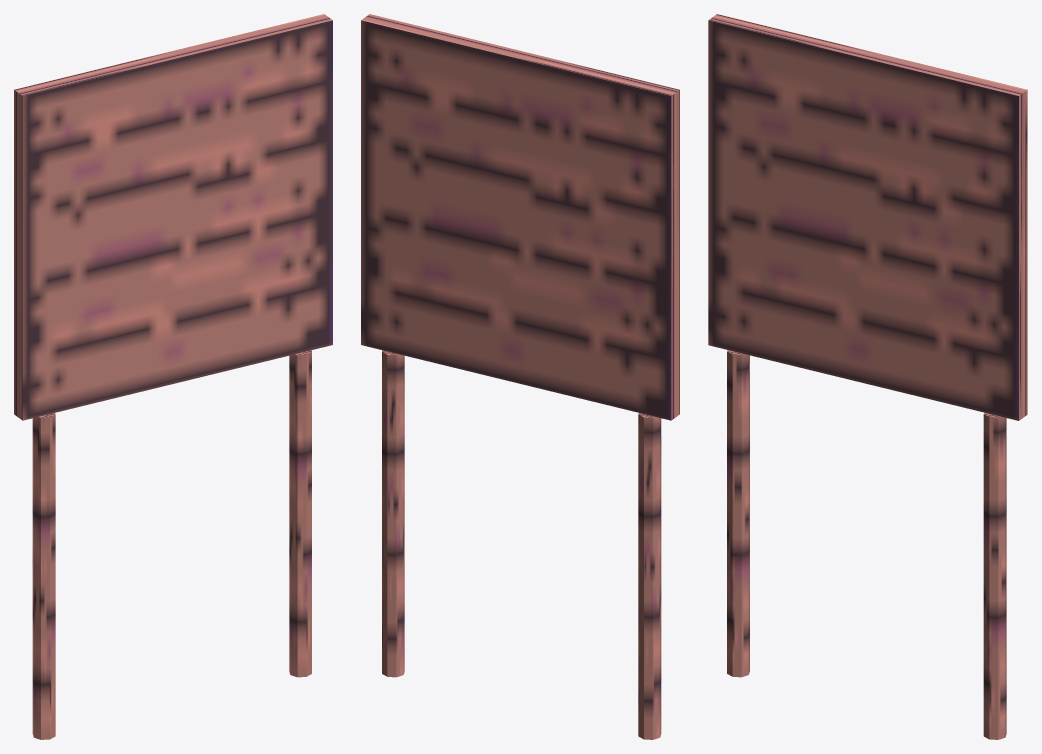
Rendered from Sign_2.obj.
3 renders of one model, left to right at view 1: azimuth 30°, elevation 25°; view 2: azimuth 150°, elevation 25°; view 3: azimuth 330°, elevation 25°, orthographic.
Parts seen in each view (by area): view 1: Sign_2_Cylinder.006; view 2: Sign_2_Cylinder.006; view 3: Sign_2_Cylinder.006.
Part boxes in pixels (x1,y1,x2,y2): Sign_2_Cylinder.006: (14,14,332,739); Sign_2_Cylinder.006: (361,14,679,739); Sign_2_Cylinder.006: (708,14,1027,739).
Size of the model in its own units: 2 by 3.99 by 0.1323.
